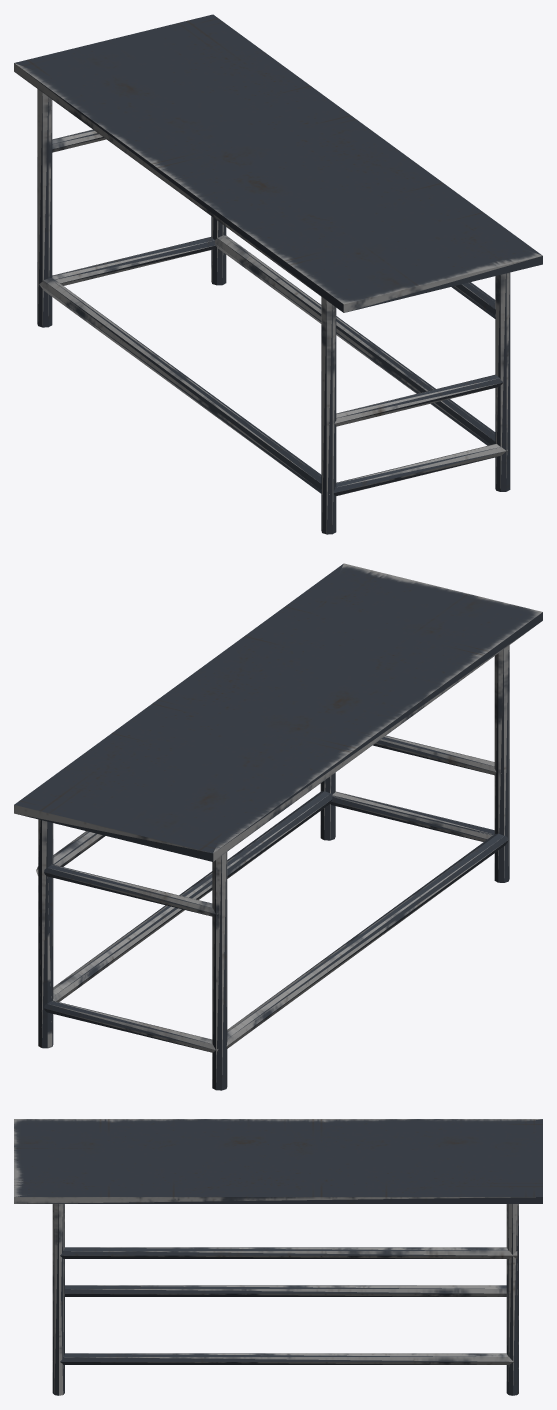
The model's file is TableDrawer.fbx.
3 renders of one model, top to bottom at view 1: azimuth 30°, elevation 25°; view 2: azimuth 150°, elevation 25°; view 3: azimuth 270°, elevation 25°, orthographic. The views are drawn at different scales.
Parts seen in each view (by area): view 1: Group1; view 2: Group1; view 3: Group1.
Part boxes in pixels (<box>): Group1: <box>14,14,542,534</box>; Group1: <box>14,563,542,1090</box>; Group1: <box>14,1119,542,1395</box>.
Size of the model in its own units: 88.96 by 107 by 255.
